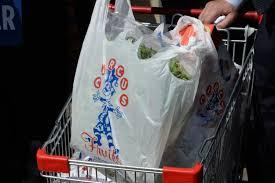Plastic bag: (69, 4, 198, 177)
